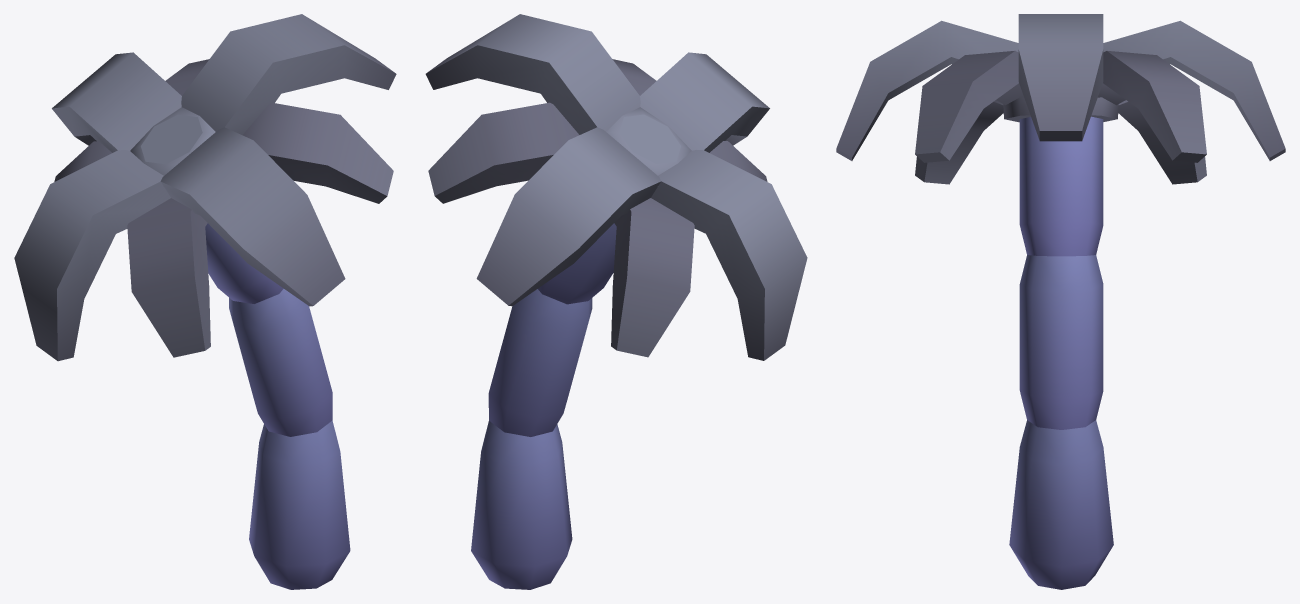
The model's file is palm-detailed-bend.fbx.
The picture shows the model from 3 angles, left to right: view 1: azimuth 30°, elevation 25°; view 2: azimuth 150°, elevation 25°; view 3: azimuth 270°, elevation 25°; orthographic projection.
Visible parts, largest first — view 1: palm-detailed-bend; view 2: palm-detailed-bend; view 3: palm-detailed-bend.
Part boxes in pixels (bbox=[...]): palm-detailed-bend: bbox=[14, 14, 396, 589]; palm-detailed-bend: bbox=[425, 14, 807, 589]; palm-detailed-bend: bbox=[836, 14, 1285, 589].
Size of the model in its own units: 288 by 425 by 322.
